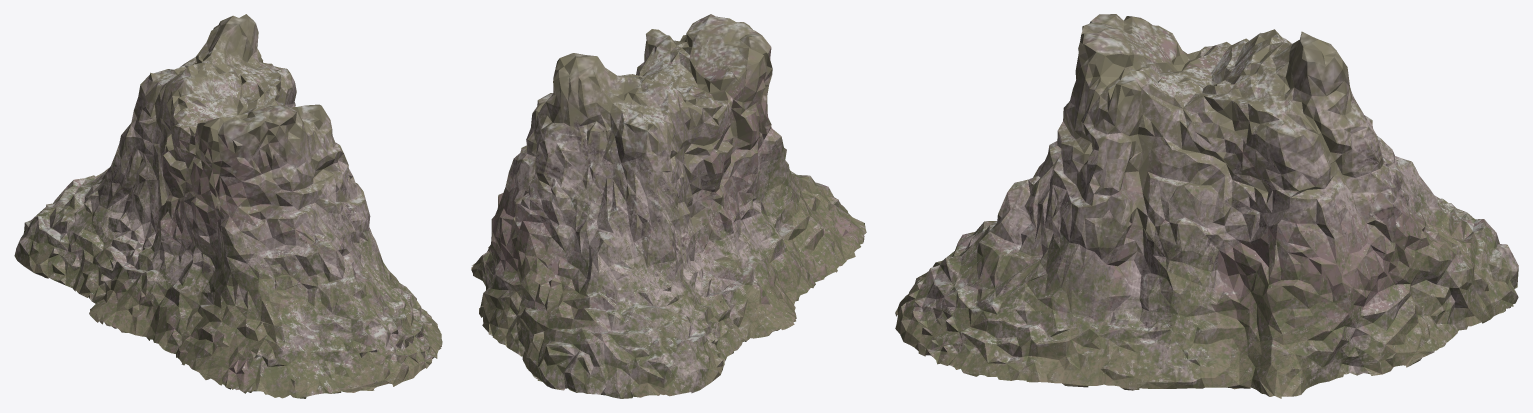
The model's file is mountain-v1.glb.
The picture shows the model from 3 angles, left to right: view 1: azimuth 30°, elevation 25°; view 2: azimuth 150°, elevation 25°; view 3: azimuth 270°, elevation 25°; orthographic projection. The views are drawn at different scales.
Visible parts, largest first — view 1: ZBrush_defualt_group; view 2: ZBrush_defualt_group; view 3: ZBrush_defualt_group.
Boxes of the visible parts, box(x1,y1,x2,y2) form: ZBrush_defualt_group: box(14, 14, 442, 398); ZBrush_defualt_group: box(471, 14, 866, 398); ZBrush_defualt_group: box(895, 14, 1518, 398).
Bounding box in the file's own units: 12.21 × 9.87 × 18.78.
1 material, 1 textured.
